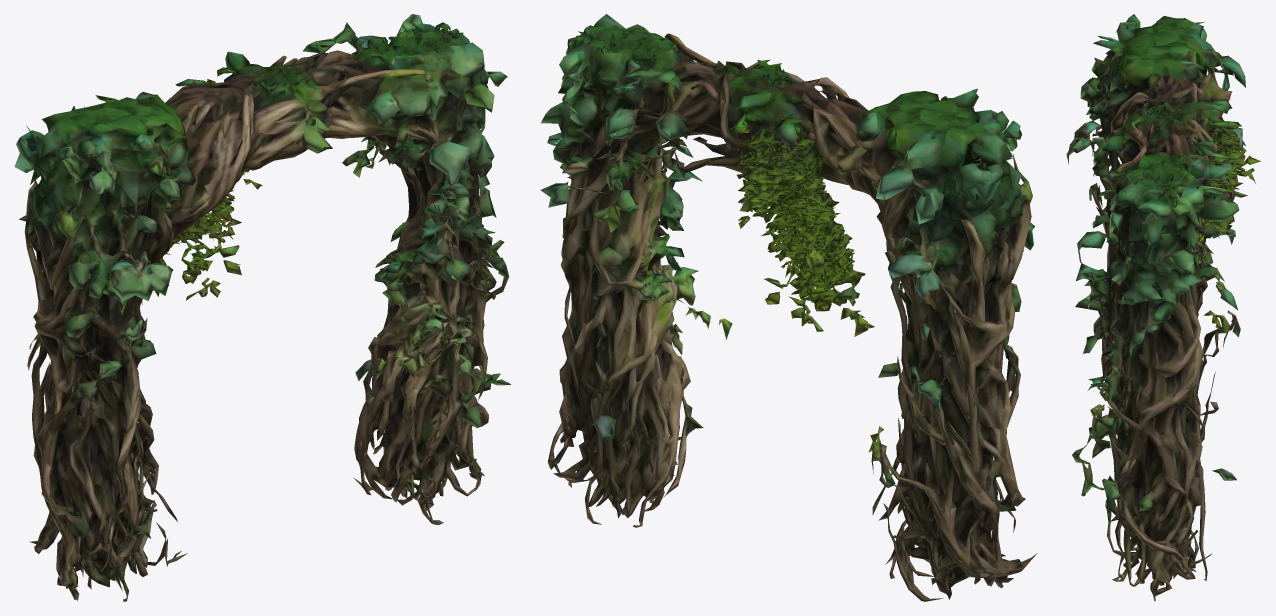
The model's file is A_large_arch_made_fr.glb.
The picture shows the model from 3 angles, left to right: view 1: azimuth 30°, elevation 25°; view 2: azimuth 150°, elevation 25°; view 3: azimuth 270°, elevation 25°; orthographic projection. The views are drawn at different scales.
Parts seen in each view (by area): view 1: A_large_arch_made_fr; view 2: A_large_arch_made_fr; view 3: A_large_arch_made_fr.
Part boxes in pixels (x1,y1,x2,y2): A_large_arch_made_fr: (14,14,510,601); A_large_arch_made_fr: (540,14,1037,601); A_large_arch_made_fr: (1066,14,1260,601).
Size of the model in its own units: 2 by 2 by 0.8493.
1 material, 1 textured.
